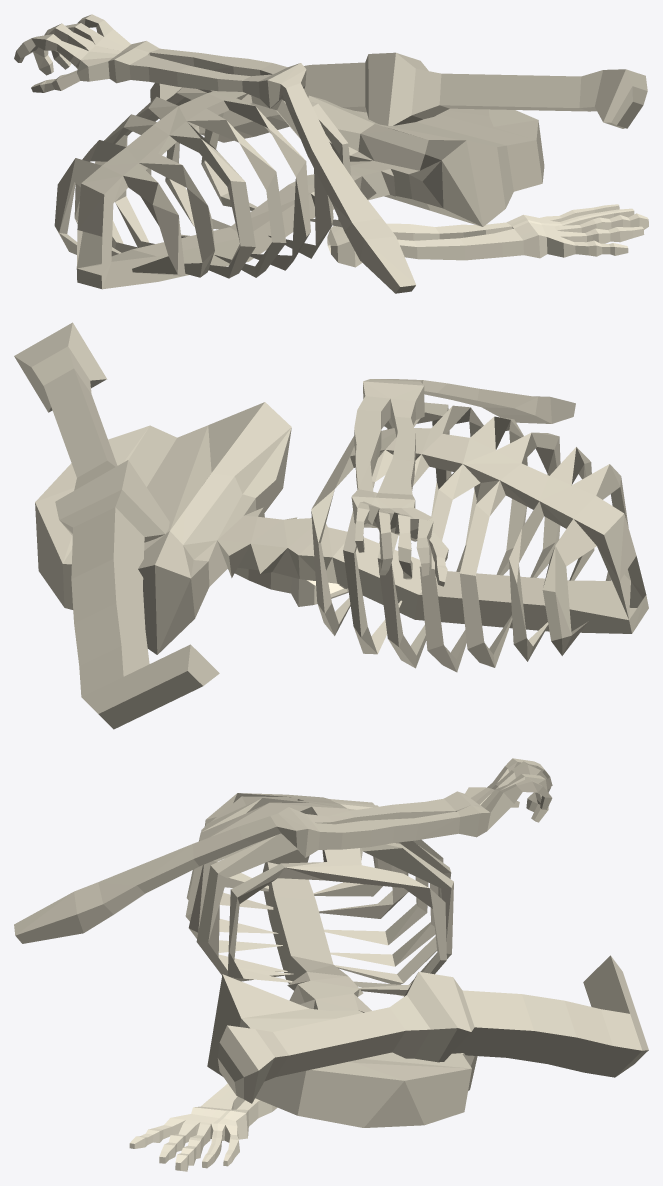
Rendered from pile w_o sword.fbx.
The picture shows the model from 3 angles, top to bottom: view 1: azimuth 30°, elevation 25°; view 2: azimuth 150°, elevation 25°; view 3: azimuth 270°, elevation 25°; orthographic projection. The views are drawn at different scales.
Parts seen in each view (by area): view 1: Cube.001, arm_right, leg_right, arm_right.002; view 2: Cube.001, leg_right, arm_right, arm_right.002; view 3: Cube.001, leg_right, arm_right, arm_right.002.
Part boxes in pixels (box(x1,y1,x2,y2)): Cube.001: box(54, 87, 544, 289); arm_right: box(14, 14, 415, 293); leg_right: box(150, 52, 647, 142); arm_right.002: box(327, 204, 648, 267); Cube.001: box(35, 402, 648, 672); leg_right: box(14, 322, 219, 729); arm_right: box(351, 379, 575, 586); arm_right.002: box(235, 568, 348, 606); Cube.001: box(185, 793, 477, 1127); leg_right: box(217, 955, 648, 1103); arm_right: box(14, 758, 552, 943); arm_right.002: box(129, 1083, 277, 1171).
Bounding box in the file's own units: 149 × 52.87 × 142.
